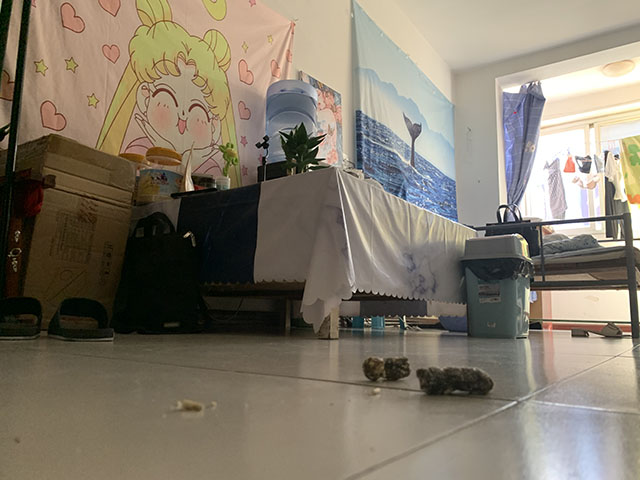bed: (530, 211, 640, 341)
feces: (415, 365, 495, 397), (361, 354, 413, 384)
slippers: (1, 293, 118, 344)
table: (130, 166, 479, 342)
trashcan: (459, 230, 535, 341)
wire: (204, 297, 246, 322)
